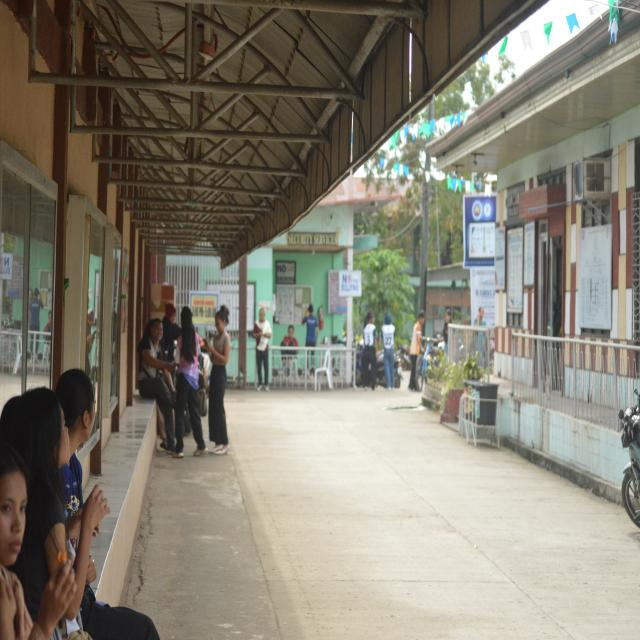person: (0, 388, 109, 636), (0, 442, 76, 639), (56, 369, 95, 548), (173, 307, 208, 457), (138, 319, 175, 454), (205, 306, 230, 454), (253, 308, 272, 391), (409, 311, 425, 390), (362, 311, 378, 390), (381, 313, 395, 390), (162, 303, 180, 361), (303, 304, 319, 347)
